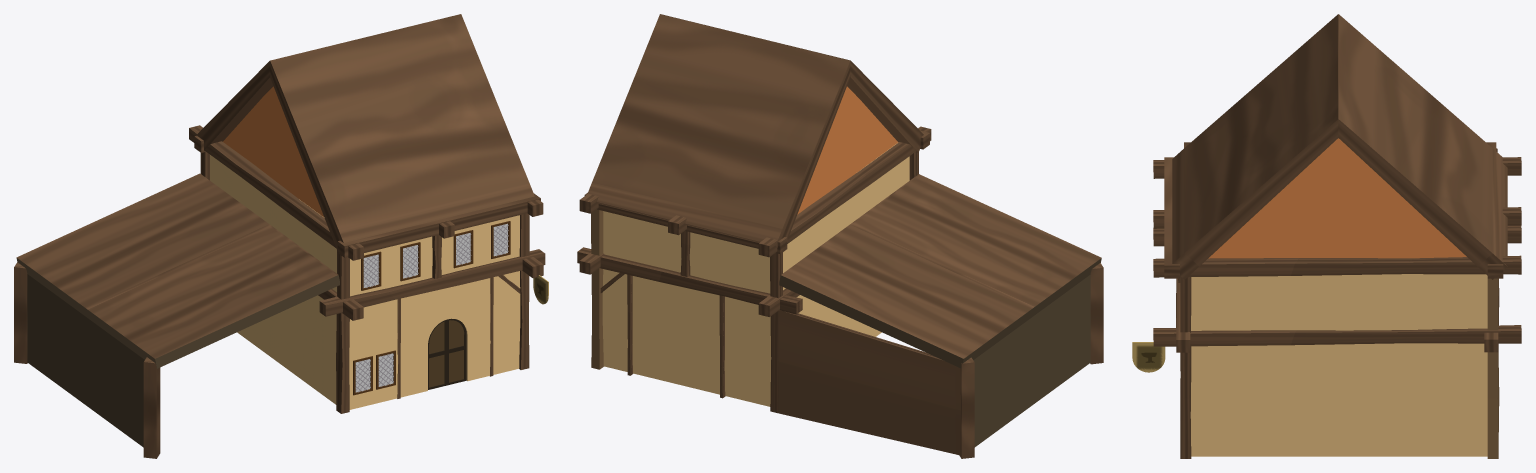
Rendered from BlackSmith.fbx.
3 views of the same model, side by side, from view 1: azimuth 30°, elevation 25°; view 2: azimuth 150°, elevation 25°; view 3: azimuth 270°, elevation 25° (orthographic). The views are drawn at different scales.
Visible parts, largest first — view 1: Plane.008; view 2: Plane.008; view 3: Plane.008.
Boxes of the visible parts, x1,y1,x2,y2 form: Plane.008: (14,14,548,458); Plane.008: (577,14,1103,458); Plane.008: (1132,14,1521,458).
Size of the model in its own units: 20.9 by 15.42 by 15.88.
